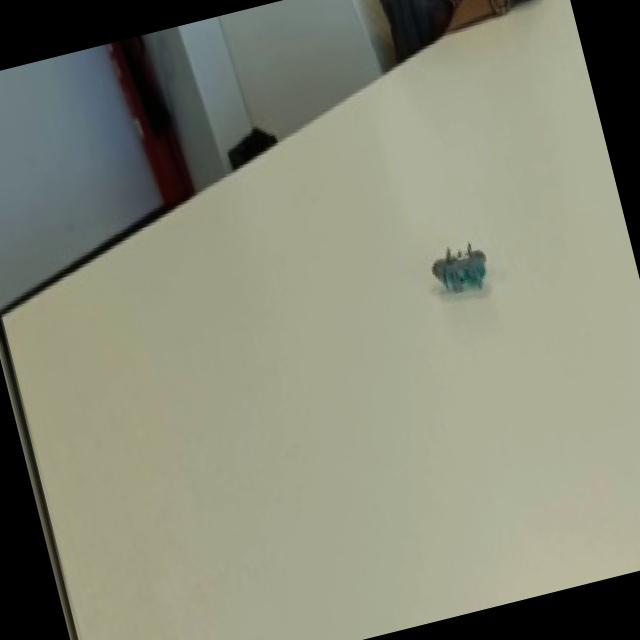5_NanoBug_GrisClaro: (418, 218, 526, 334)
